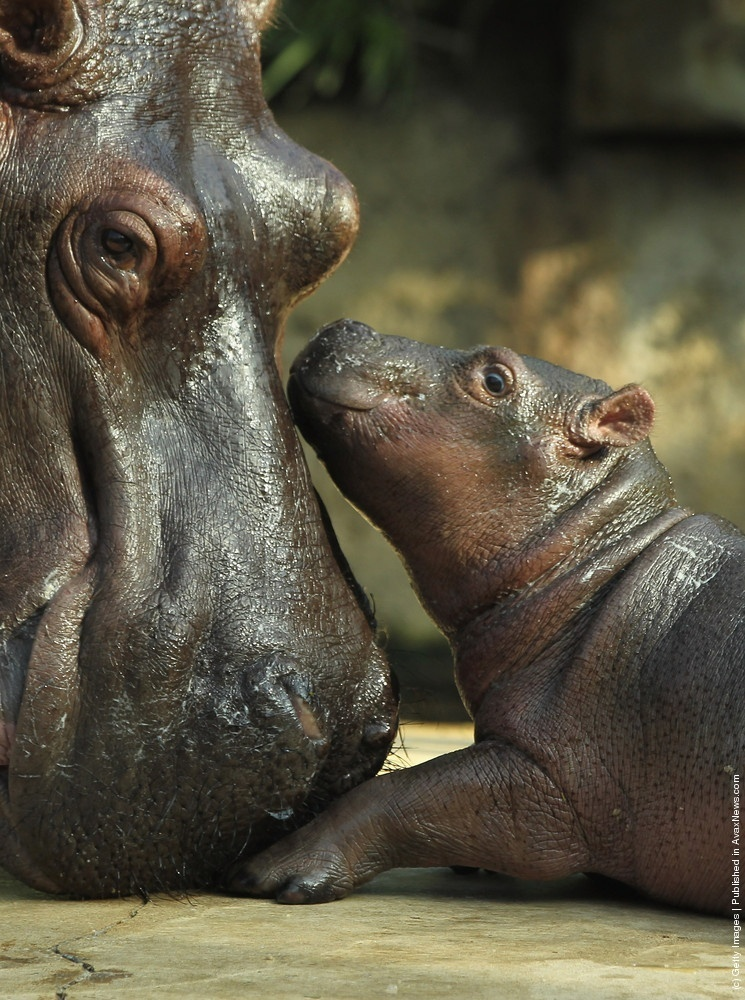hipopotamo: (2, 1, 435, 924), (261, 289, 745, 942)
